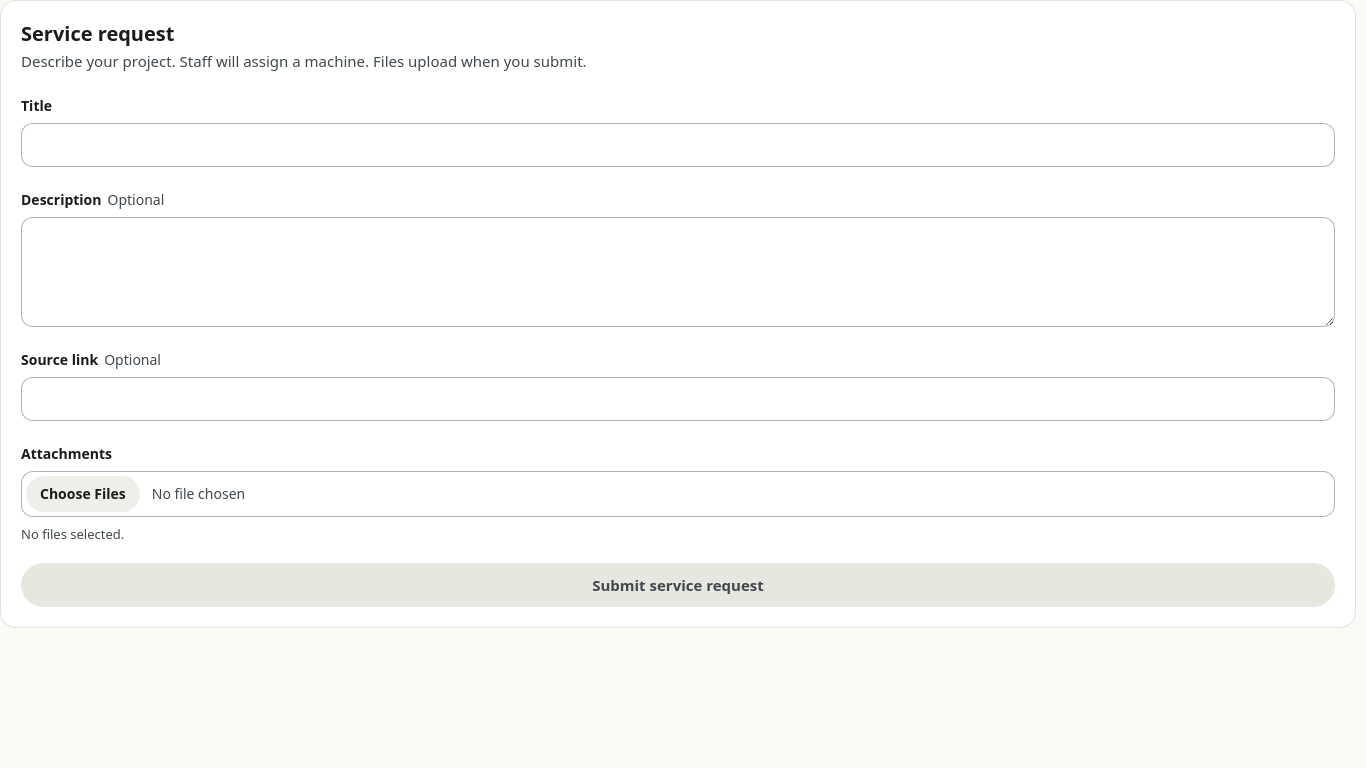
Test: actual service form persistence and shared-browser privacy › does not save a failed service submission
The image size is (1366, 768).
Type "Private A project" into the field labelled "Title" at {"x": 678, "y": 144}, box [21,122,1335,166]
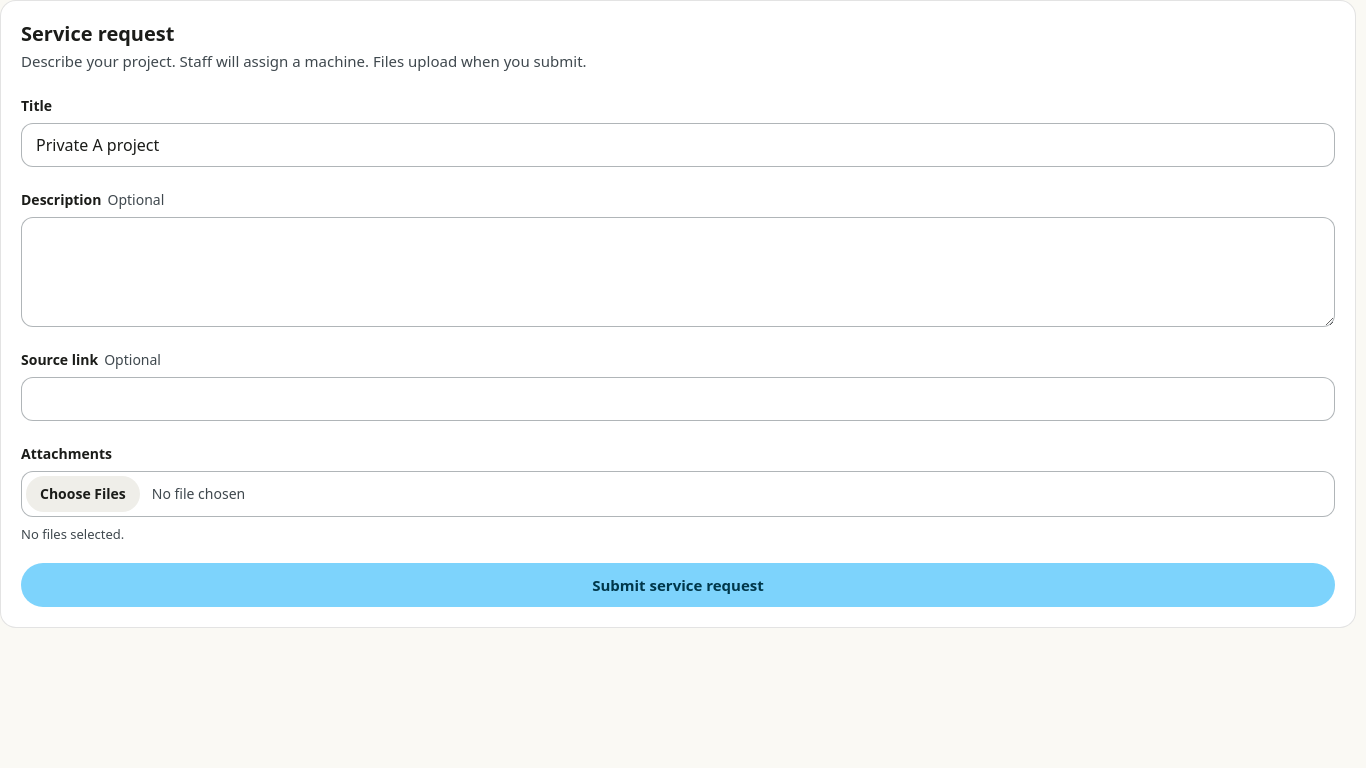
Submit the form labelled "Title"
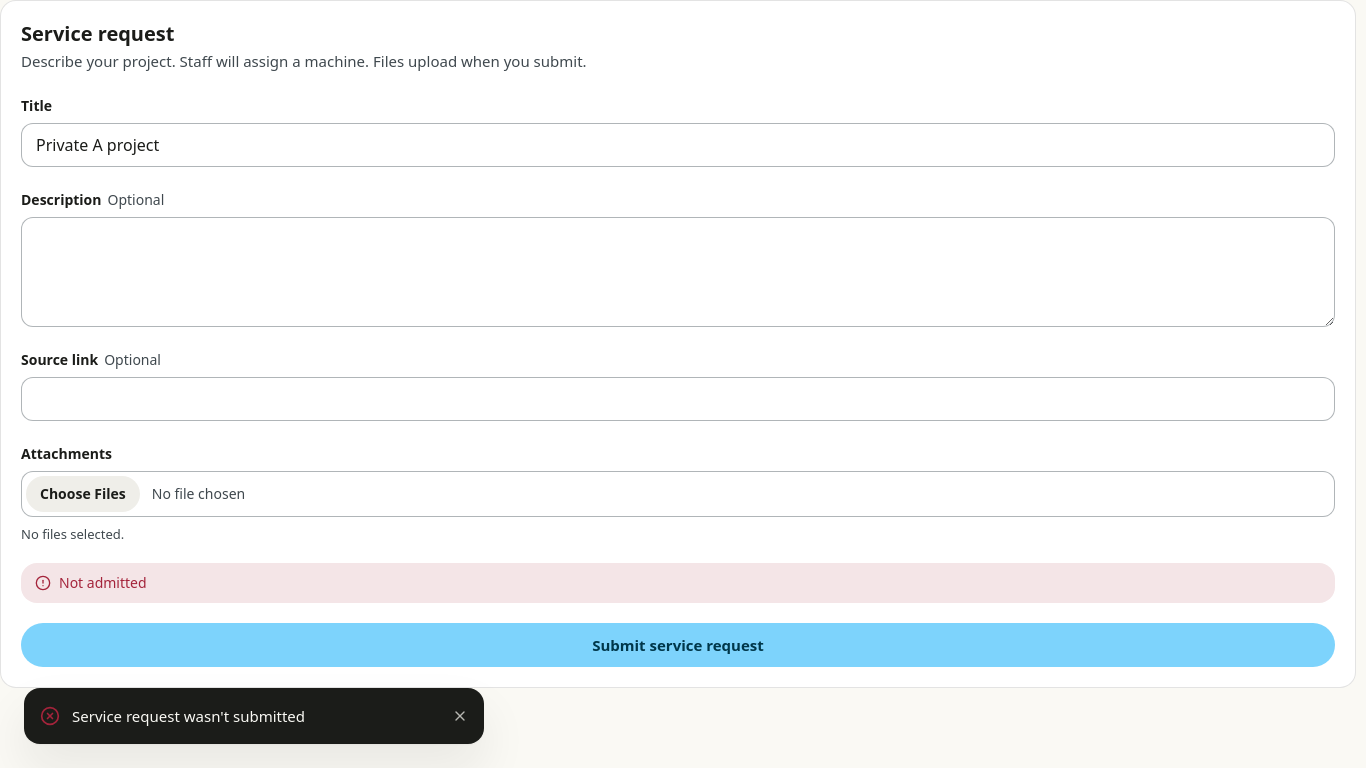
Now the text "Not admitted" is shown, box [59,573,147,593]
